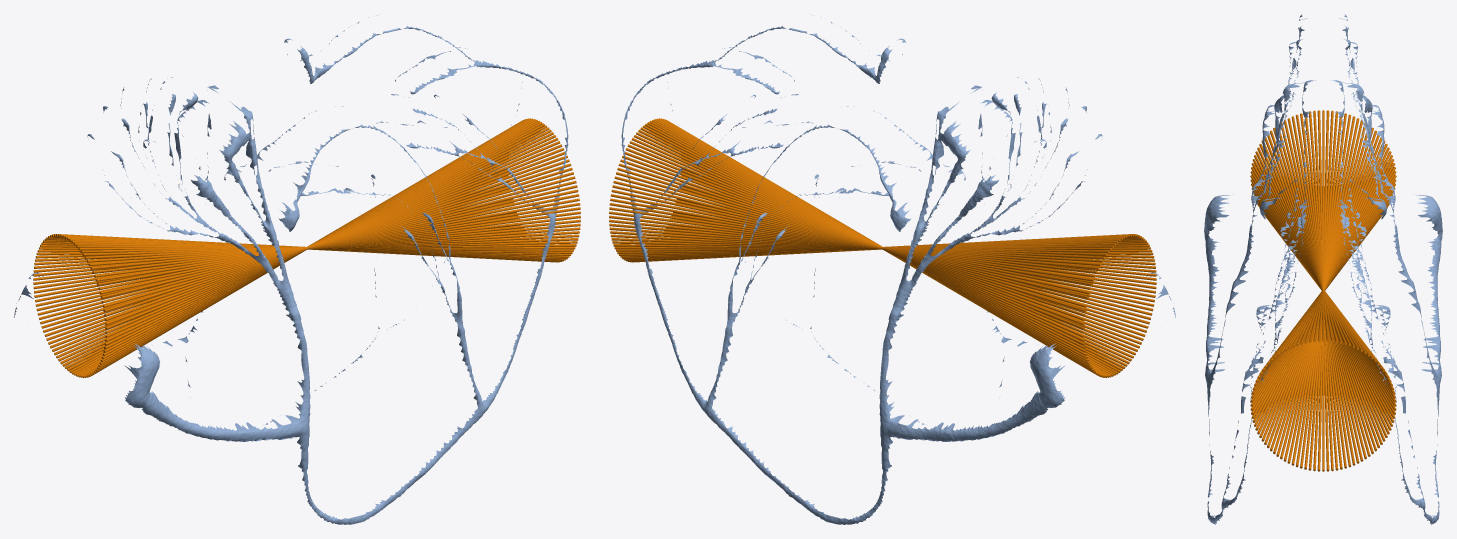
Rendered from A60025031_1135-37-520-5734_DigitalTwin.glb.
The picture shows the model from 3 angles, left to right: view 1: azimuth 30°, elevation 25°; view 2: azimuth 150°, elevation 25°; view 3: azimuth 270°, elevation 25°; orthographic projection.
Visible parts, largest first — view 1: world; view 2: world; view 3: world.
Boxes of the visible parts, left/top/right/bottom form: world: left=14, top=15, right=580, bottom=524; world: left=609, top=15, right=1175, bottom=524; world: left=1204, top=14, right=1442, bottom=524.
Bounding box in the file's own units: 839 × 739 × 368.
